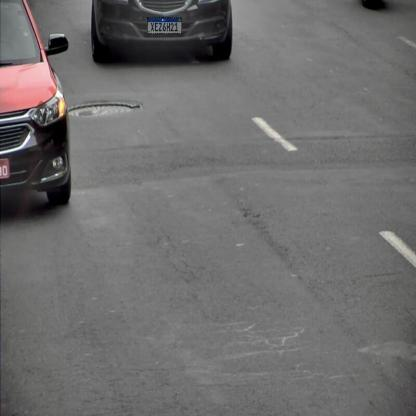PlacaM: (147, 17, 182, 34)
